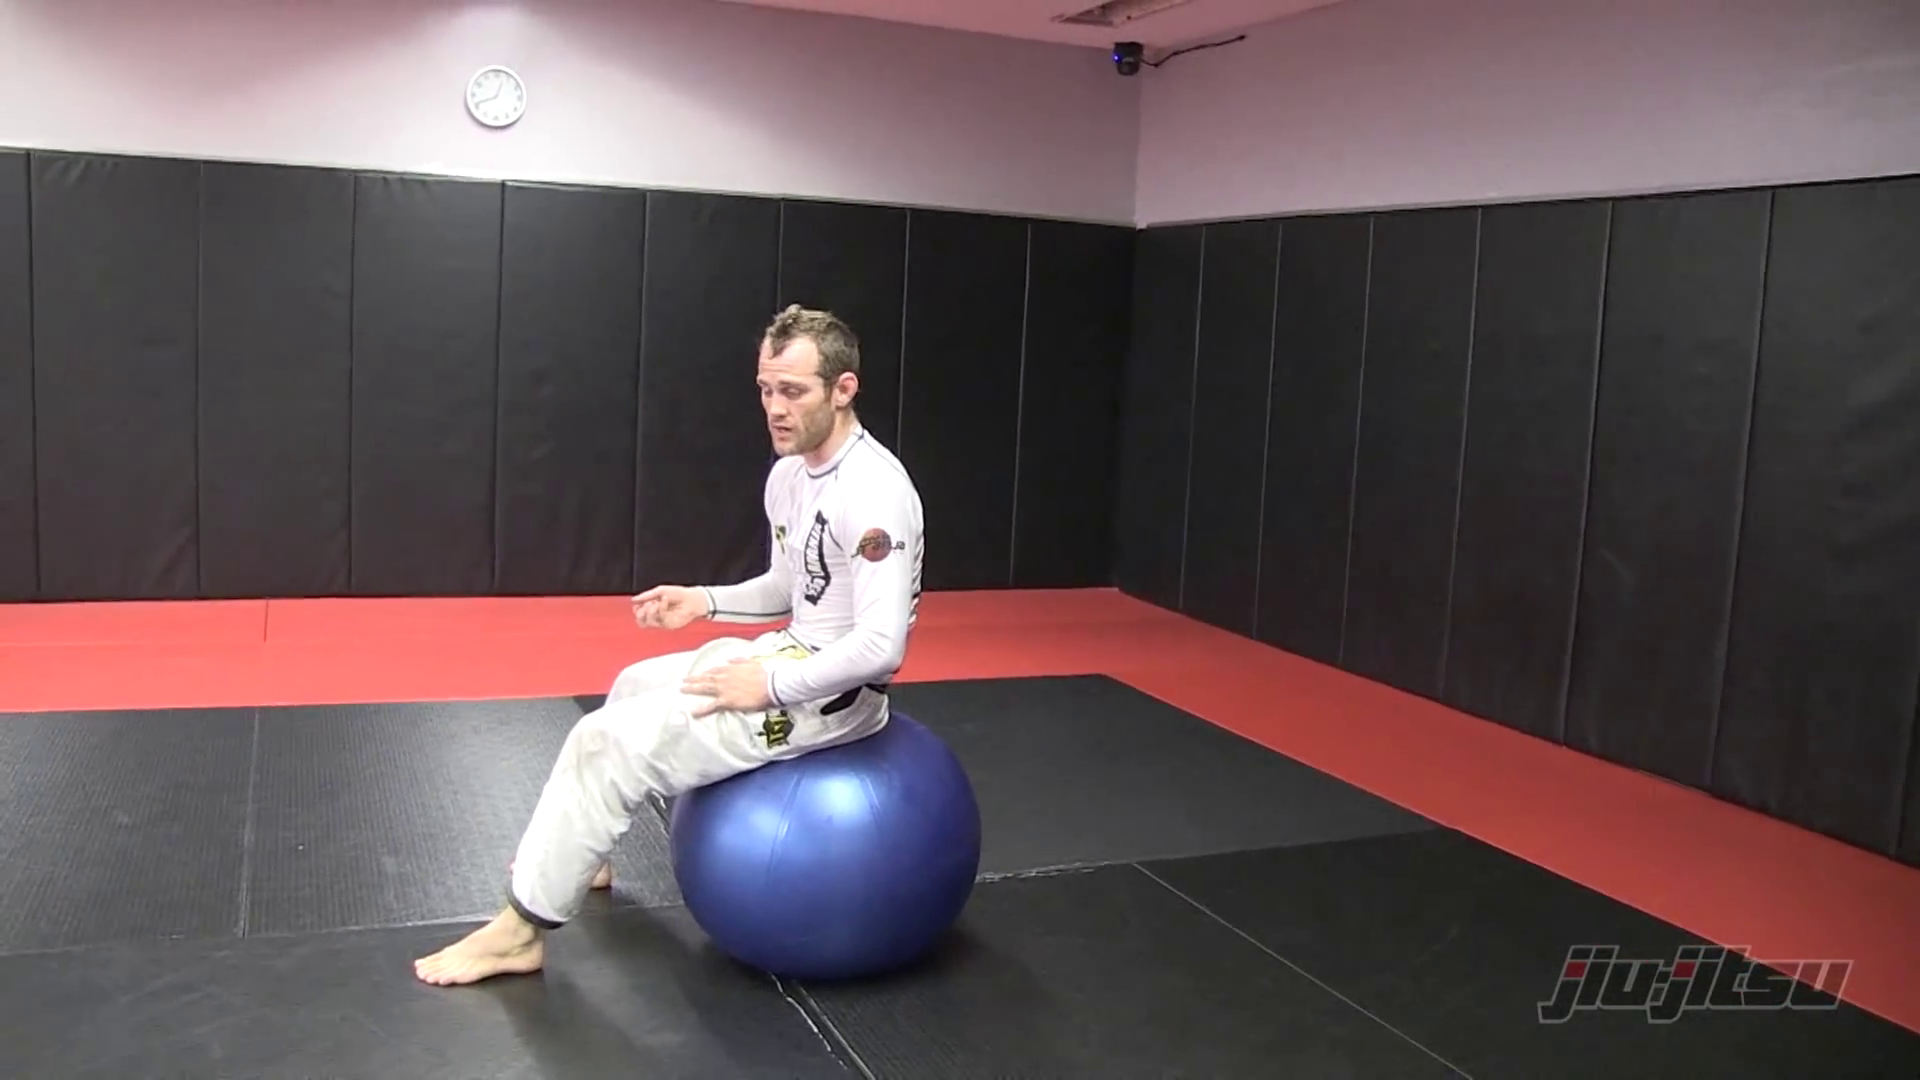yogaball: (657, 700, 996, 978)
